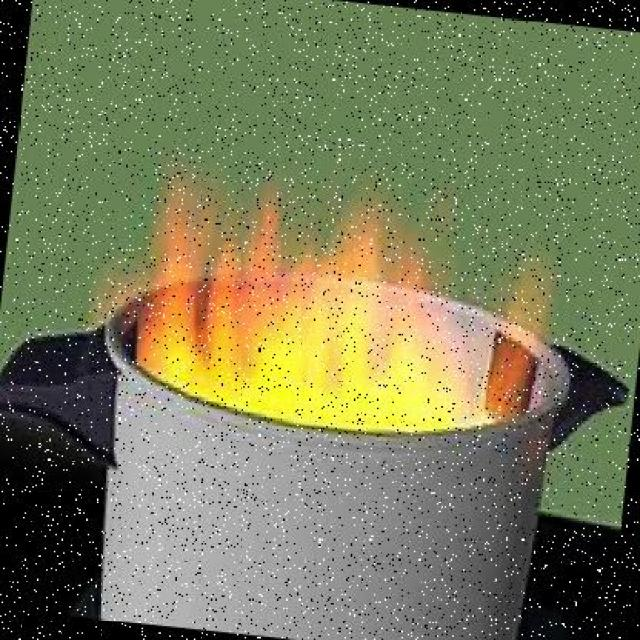fire: (115, 172, 571, 468)
